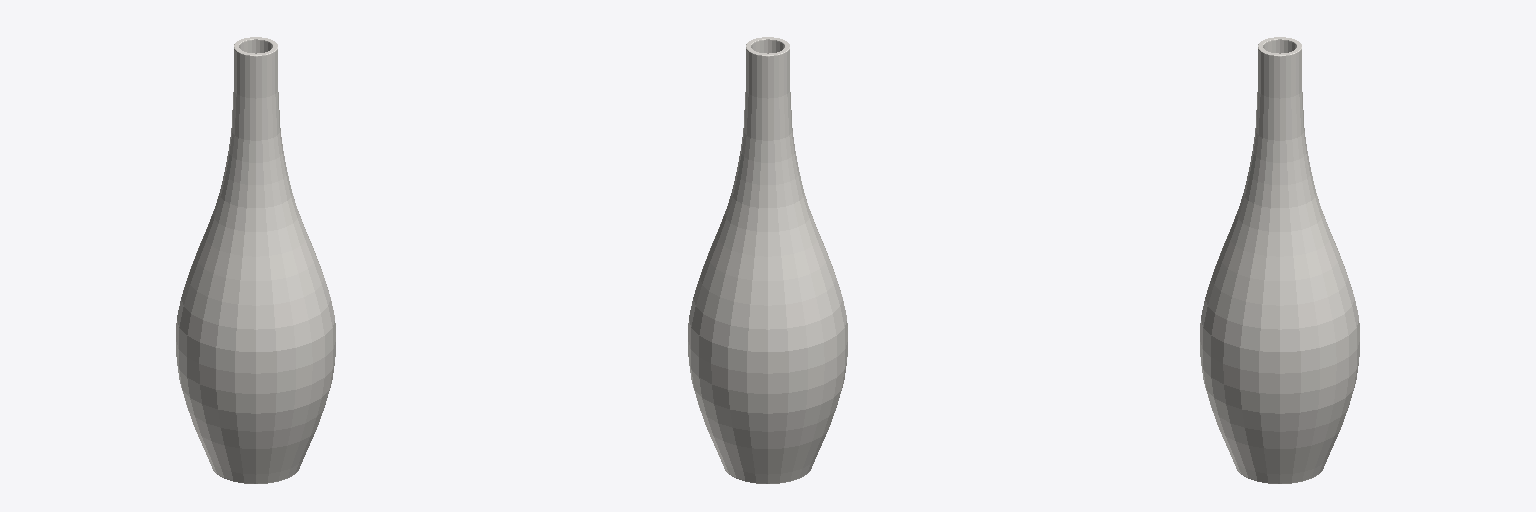
File: TestVase.obj
3 views of the same model, side by side, from view 1: azimuth 30°, elevation 25°; view 2: azimuth 150°, elevation 25°; view 3: azimuth 270°, elevation 25° (orthographic).
Visible parts, largest first — view 1: Vase01; view 2: Vase01; view 3: Vase01.
Part boxes in pixels (bbox=[...]): Vase01: bbox=[176, 37, 335, 483]; Vase01: bbox=[688, 37, 847, 483]; Vase01: bbox=[1200, 37, 1359, 483].
Bounding box in the file's own units: 10.4 × 30 × 10.4.